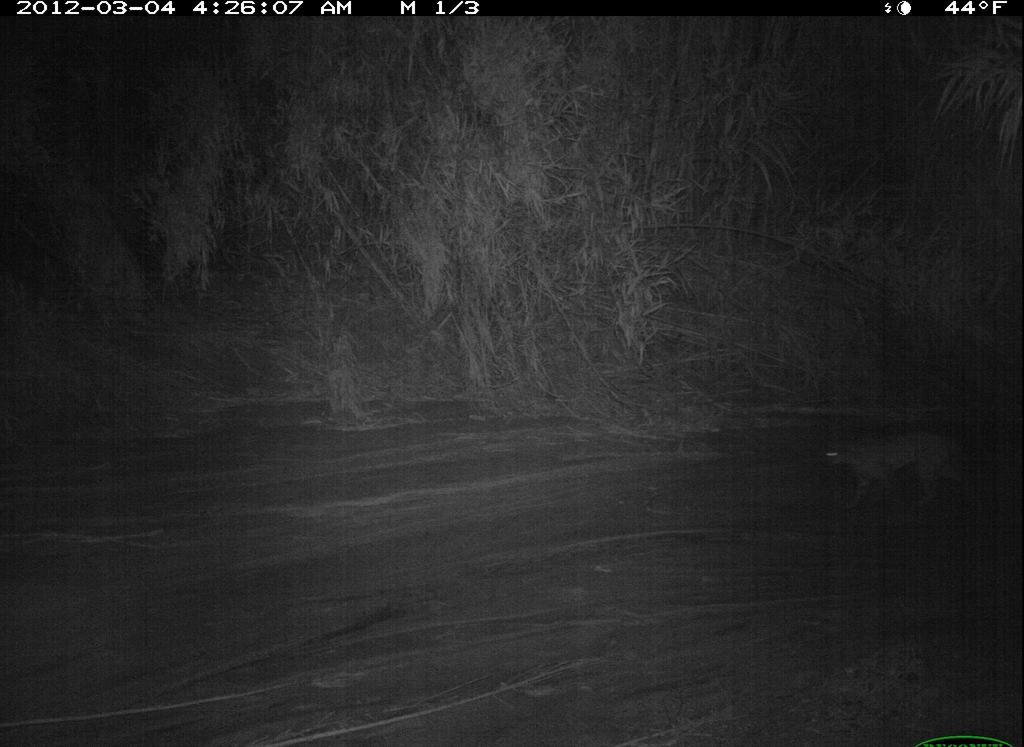bobcat: (802, 414, 1001, 534)
